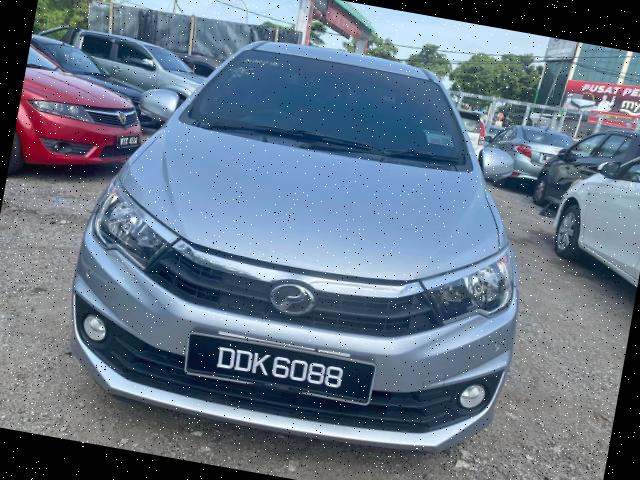License_Plate: (195, 337, 360, 402)
car: (38, 1, 566, 478)
